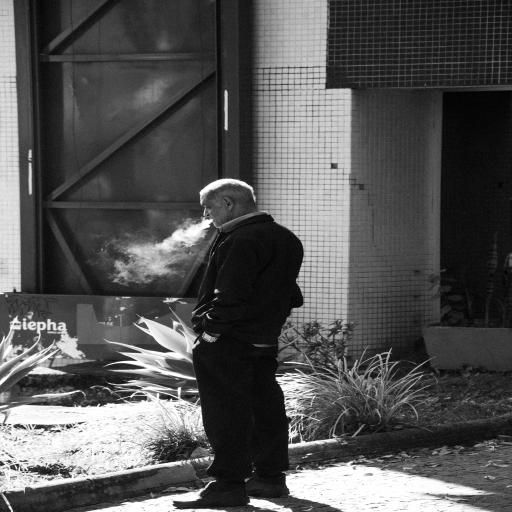asap rokok: (158, 176, 239, 243)
